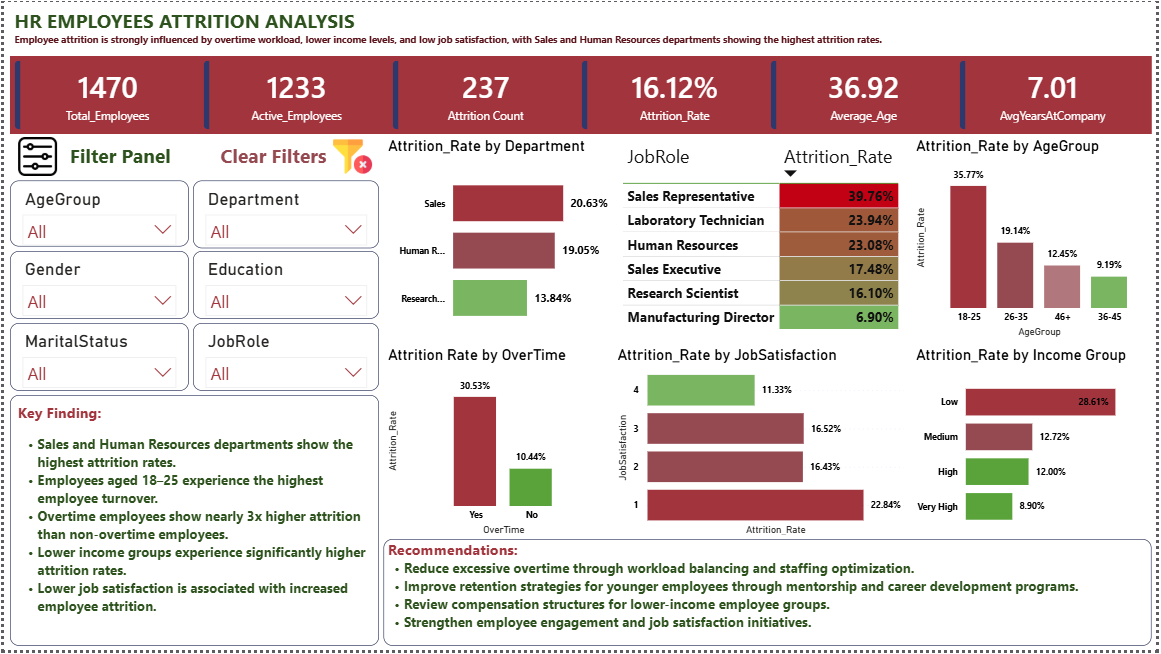

The dashboard page shown, as its layout file describes it:
{"tool":"powerbi","page":{"name":"Dashboard","canvas":[1280,720],"ordinal":0},"visuals":[{"type":"shape","box":[0,0,1280,720],"z":0},{"type":"clusteredBarChart","fields":{"Category":["HR_Analytics.Department"],"Y":["HR_Analytics.Attrition_Rate"]},"box":[421.7,150.8,255,226.7],"z":1000},{"type":"tableEx","fields":{"Values":["HR_Analytics.JobRole","HR_Analytics.Attrition_Rate"]},"box":[681.7,150,323.3,226.7],"z":2000},{"type":"columnChart","title":"Attrition Rate by OverTime","fields":{"Category":["HR_Analytics.OverTime"],"Y":["HR_Analytics.Attrition_Rate"]},"box":[421.7,381.7,250,215],"z":3000},{"type":"columnChart","fields":{"Category":["HR_Analytics.AgeGroup"],"Y":["HR_Analytics.Attrition_Rate"]},"box":[1008.3,150.8,266.7,226.7],"z":4000},{"type":"barChart","fields":{"Category":["HR_Analytics.Income Group"],"Y":["HR_Analytics.Attrition_Rate"]},"box":[1008.3,381.7,266.7,215],"z":5000},{"type":"clusteredBarChart","fields":{"Category":["HR_Analytics.JobSatisfaction"],"Y":["HR_Analytics.Attrition_Rate"]},"box":[676.7,381.7,328.3,215],"z":6000},{"type":"cardVisual","fields":{"Data":["HR_Analytics.Total_Employees","HR_Analytics.Active_Employees","HR_Analytics.Attrition Count","HR_Analytics.Attrition_Rate","HR_Analytics.Average_Age","HR_Analytics.AverageYearsAtCompany"]},"box":[6.7,60,1268.3,86.7],"z":7000},{"type":"textbox","box":[6.7,0,1268.3,63.3],"z":8000},{"type":"textbox","box":[421.7,596.7,853.3,118.3],"z":9000},{"type":"textbox","box":[6.7,436.7,410,278.3],"z":10000},{"type":"slicer","fields":{"Values":["HR_Analytics.AgeGroup"]},"box":[6.7,198.4,198.3,73.3],"z":11000},{"type":"slicer","fields":{"Values":["HR_Analytics.Gender"]},"box":[6.7,277.3,198.3,75],"z":12000},{"type":"slicer","fields":{"Values":["HR_Analytics.JobRole"]},"box":[210,357.3,206.7,75],"z":13000},{"type":"slicer","fields":{"Values":["HR_Analytics.MaritalStatus"]},"box":[6.7,357.3,198.3,75],"z":14000},{"type":"slicer","fields":{"Values":["HR_Analytics.Department"]},"box":[210,199,206.7,75],"z":15000},{"type":"slicer","fields":{"Values":["HR_Analytics.Education"]},"box":[210,277.3,206.7,75],"z":16000},{"type":"textbox","box":[68.3,150,136.7,43.3],"z":17000},{"type":"image","box":[8.3,150,58.3,43.3],"z":18000},{"type":"textbox","box":[228.3,150,135,43.3],"z":19000},{"type":"image","box":[358.3,150,58.3,43.3],"z":20000}]}

Visuals, with their boxes in screenshot pixels (x1, y1, x2, y2), scaled from the page's 1280x720 canvas onto the 1161x654 screenshot:
shape: locate(0, 0, 1160, 653)
clusteredBarChart - HR_Analytics.Department x HR_Analytics.Attrition_Rate: locate(382, 137, 614, 343)
tableEx - HR_Analytics.JobRole x HR_Analytics.Attrition_Rate: locate(618, 136, 912, 342)
"Attrition Rate by OverTime" columnChart: locate(382, 347, 609, 542)
columnChart - HR_Analytics.AgeGroup x HR_Analytics.Attrition_Rate: locate(915, 137, 1156, 343)
barChart - HR_Analytics.Income Group x HR_Analytics.Attrition_Rate: locate(915, 347, 1156, 542)
clusteredBarChart - HR_Analytics.JobSatisfaction x HR_Analytics.Attrition_Rate: locate(614, 347, 912, 542)
cardVisual - HR_Analytics.Total_Employees x HR_Analytics.Active_Employees: locate(6, 54, 1156, 133)
textbox: locate(6, 0, 1156, 57)
textbox: locate(382, 542, 1156, 649)
textbox: locate(6, 397, 378, 649)
slicer - HR_Analytics.AgeGroup: locate(6, 180, 186, 247)
slicer - HR_Analytics.Gender: locate(6, 252, 186, 320)
slicer - HR_Analytics.JobRole: locate(190, 325, 378, 393)
slicer - HR_Analytics.MaritalStatus: locate(6, 325, 186, 393)
slicer - HR_Analytics.Department: locate(190, 181, 378, 249)
slicer - HR_Analytics.Education: locate(190, 252, 378, 320)
textbox: locate(62, 136, 186, 176)
image: locate(8, 136, 60, 176)
textbox: locate(207, 136, 330, 176)
image: locate(325, 136, 378, 176)
